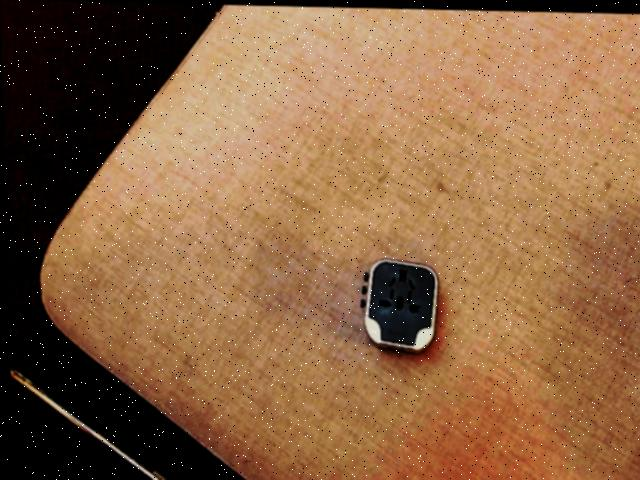adapter: (356, 255, 438, 351)
